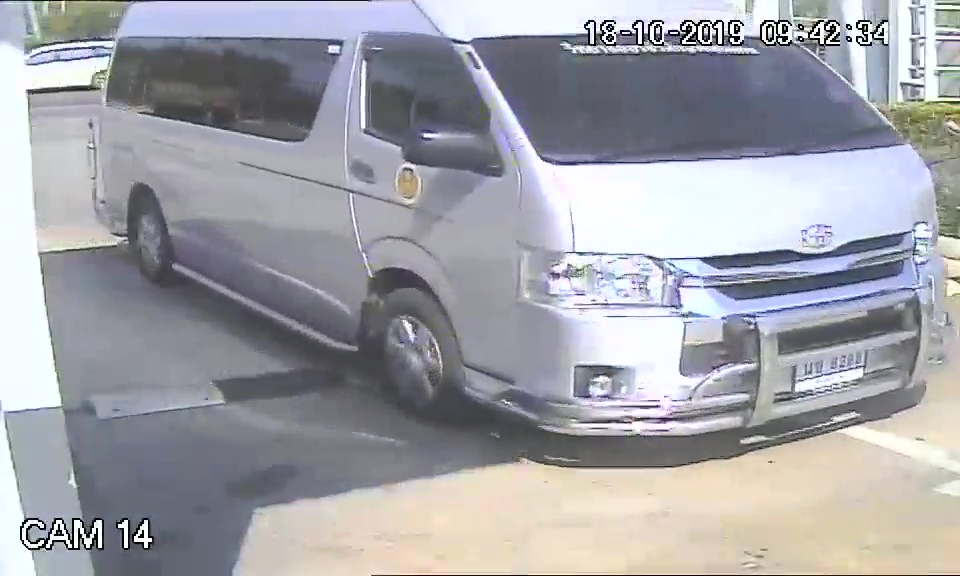van: (96, 4, 949, 441)
